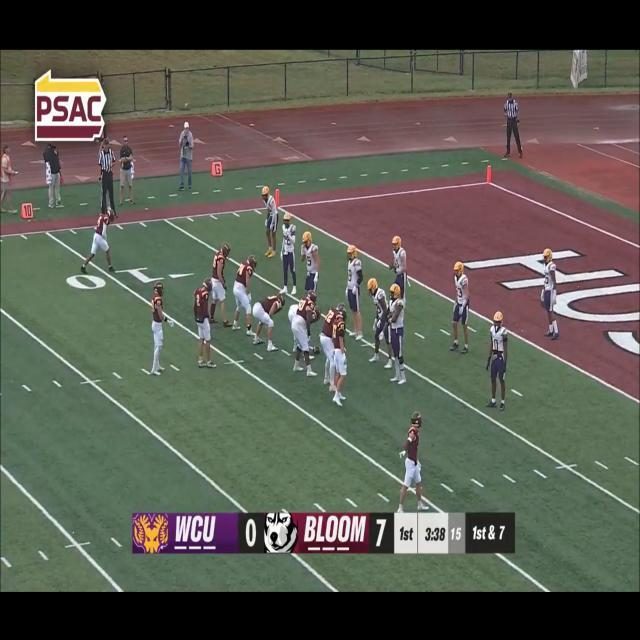football: (311, 344, 322, 356)
